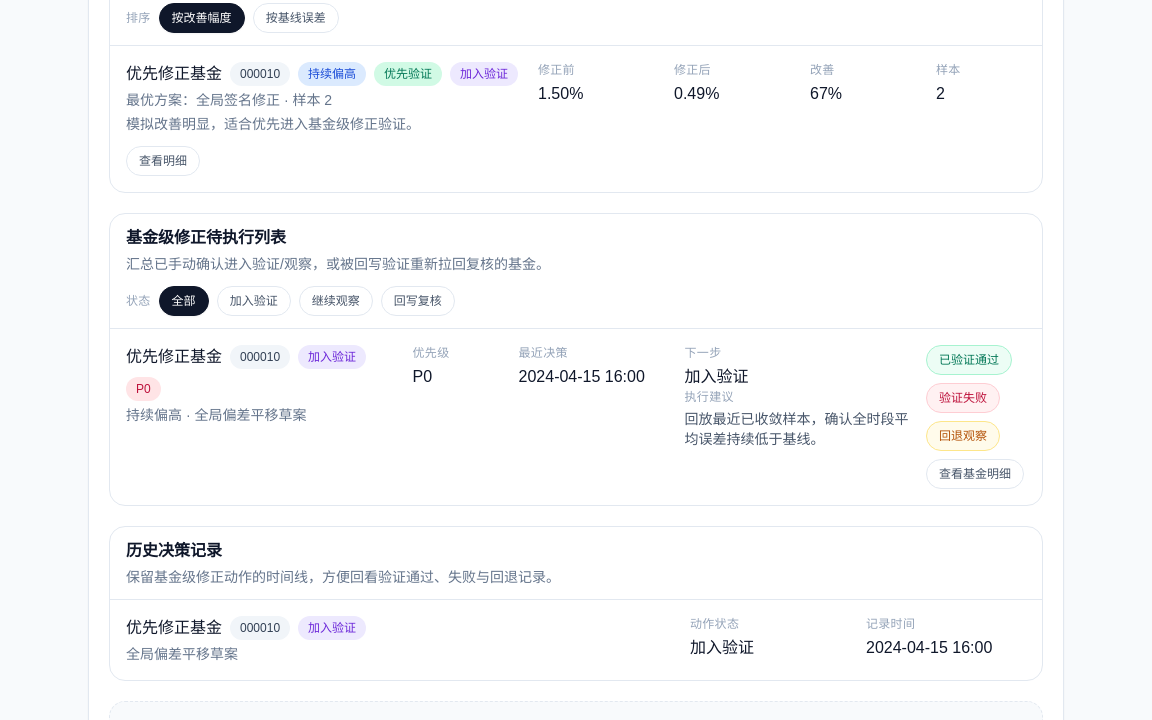
Test: AccuracyDashboard › closes execution items and records decision history
The width and height of the screenshot is (1152, 720).
(page scrolled)
Check: the number of elements with test id "accuracy-adjustment-decision-row" is 1, box [110, 329, 1042, 505]
Click the button with test id "accuracy-adjustment-execution-complete-000010" at (969, 360), box [926, 345, 1012, 375]
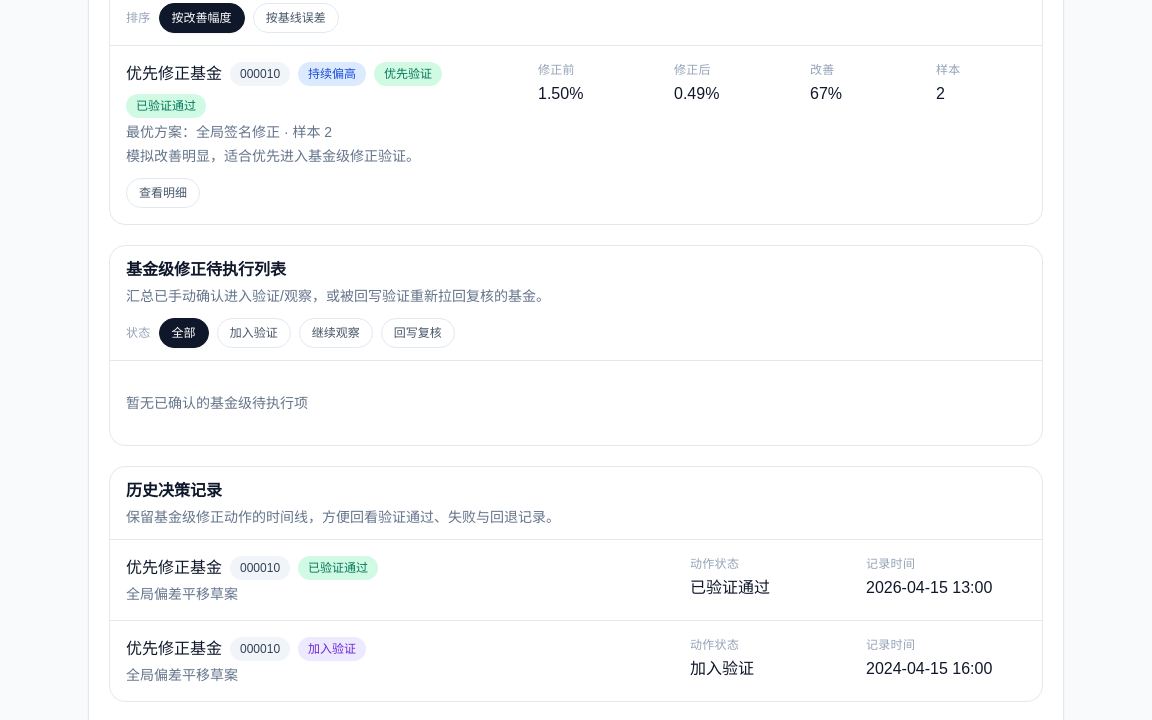
Check: the element with test id "accuracy-adjustment-decision-row" is gone
Check: the 1st element with test id "accuracy-adjustment-history-row" is shown, box [126, 556, 992, 602]
